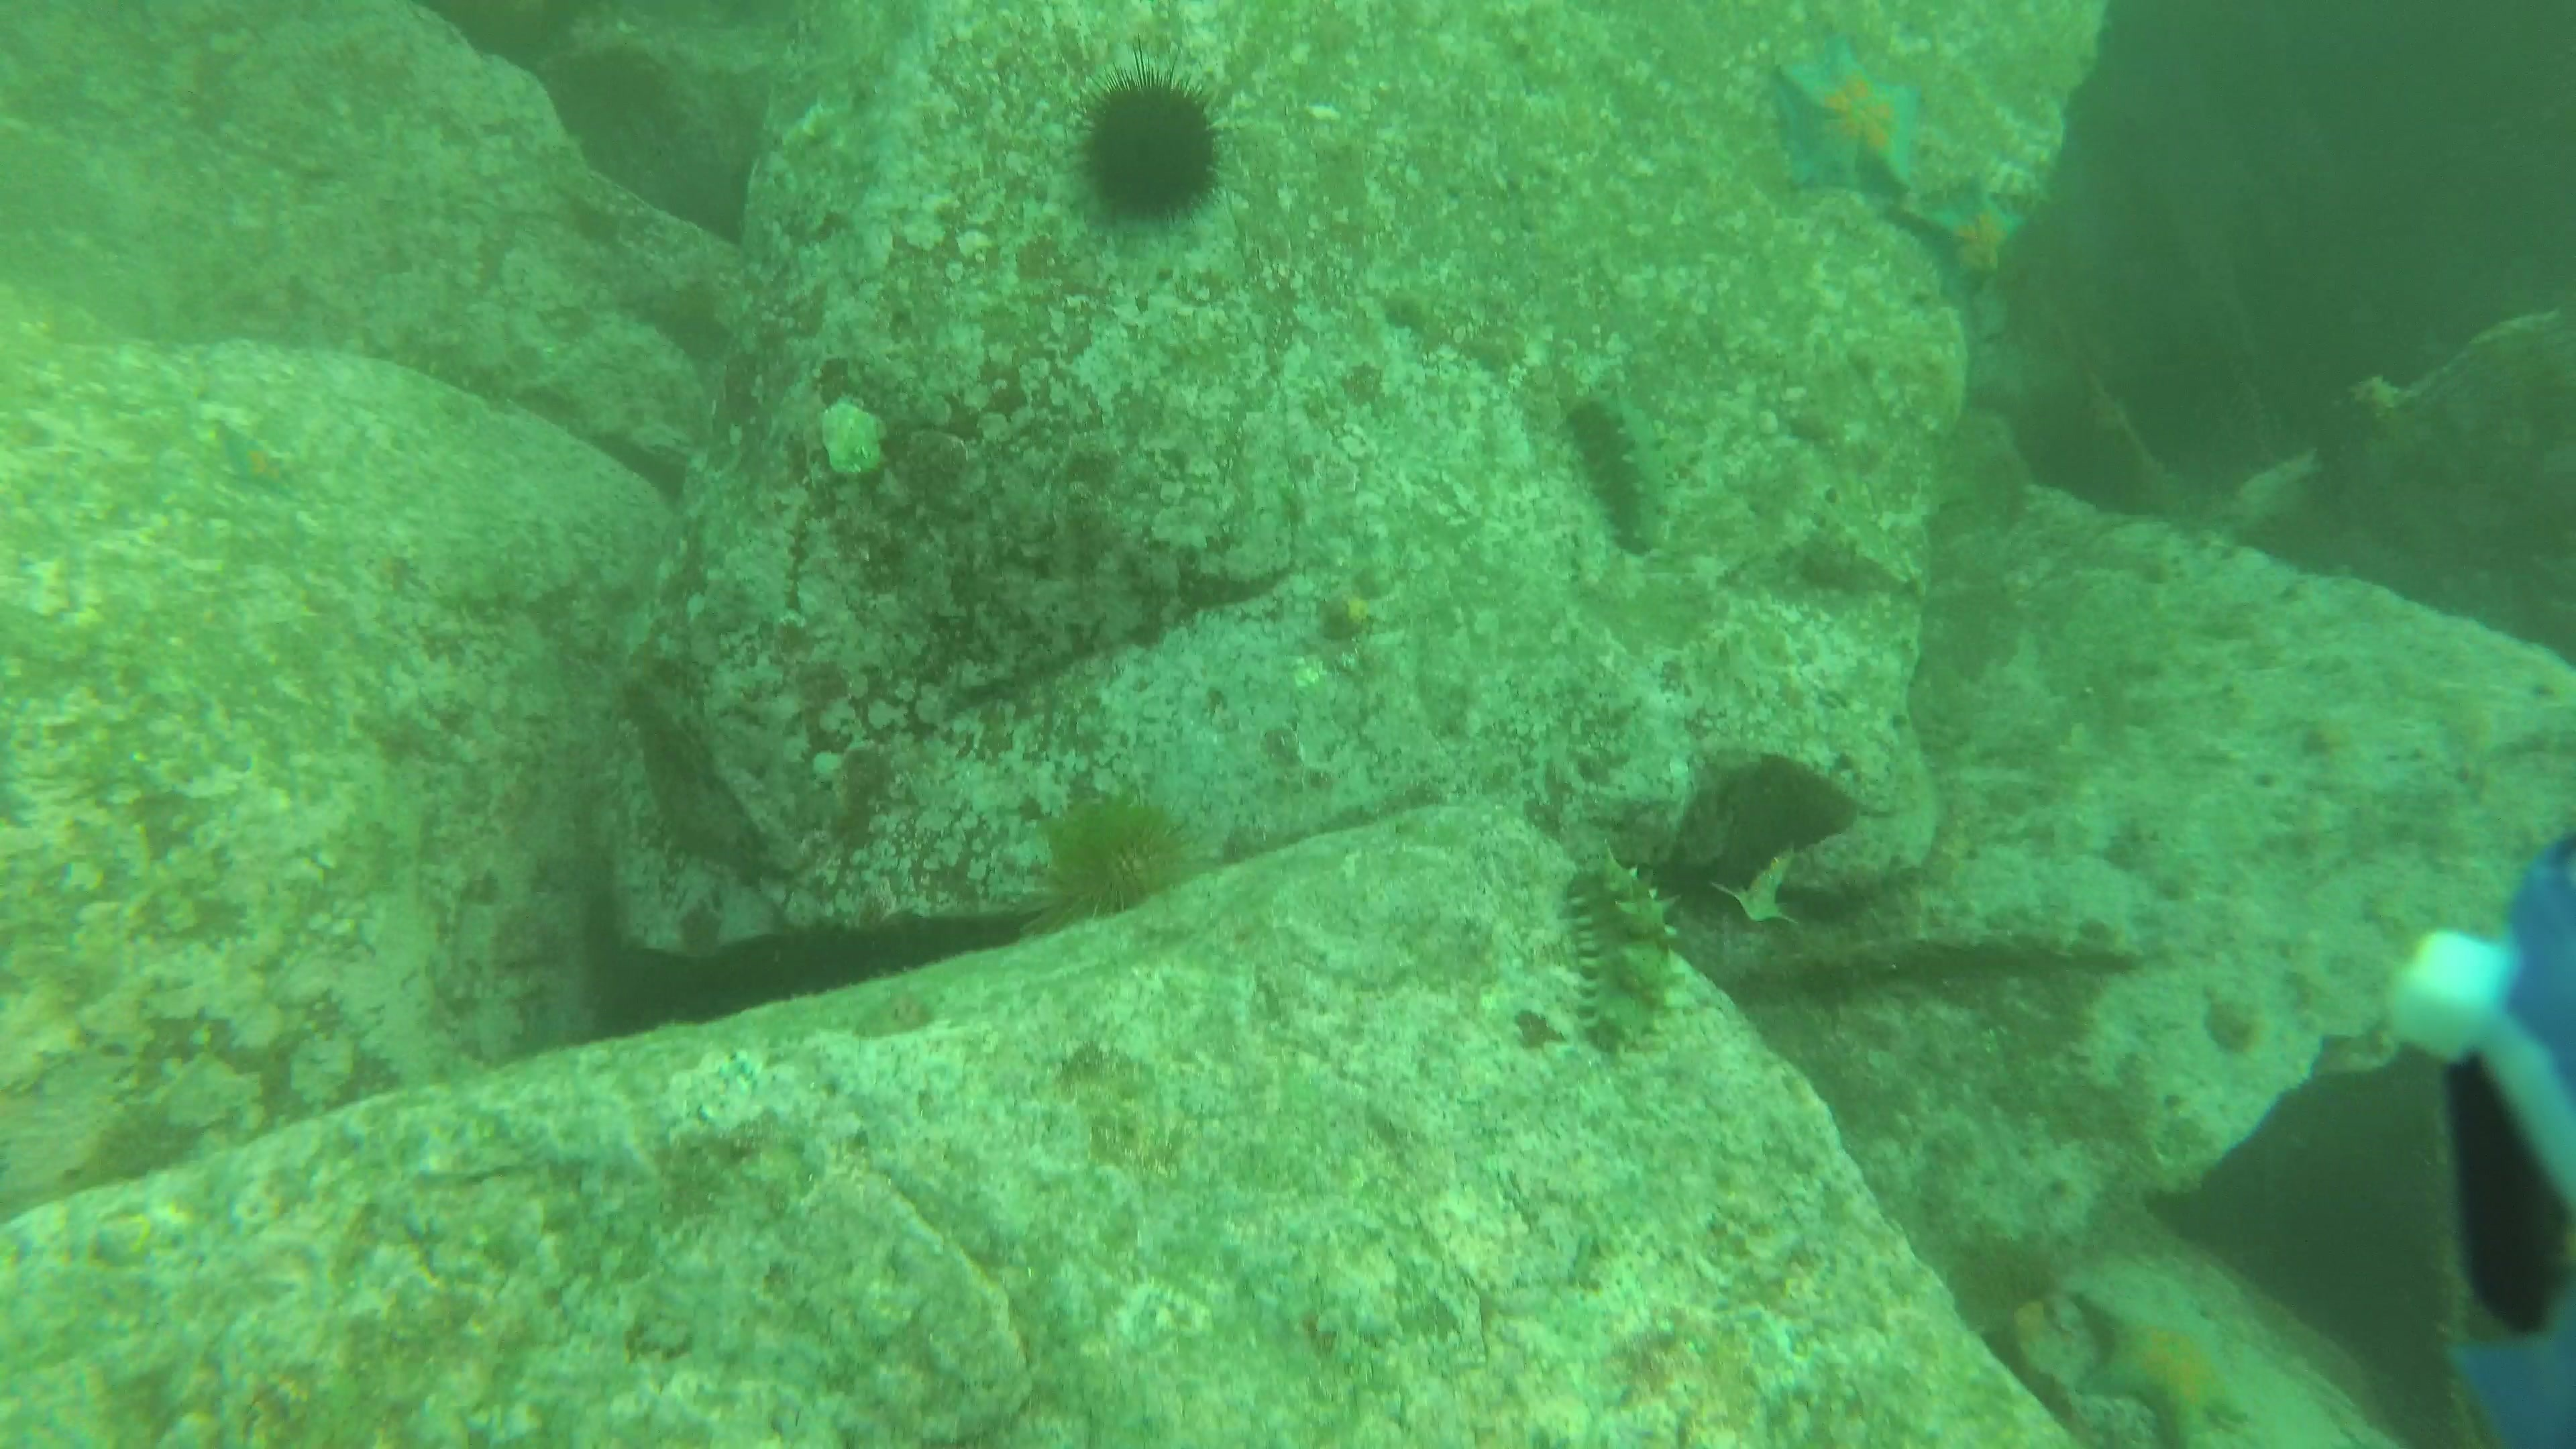echinus: (1046, 48, 1242, 241), (1003, 786, 1212, 943)
holothurian: (1555, 840, 1684, 1069), (1559, 377, 1691, 563), (380, 313, 524, 403)
starfish: (2063, 1274, 2259, 1447), (1762, 34, 1921, 203), (1893, 170, 2033, 297), (214, 418, 294, 494)
